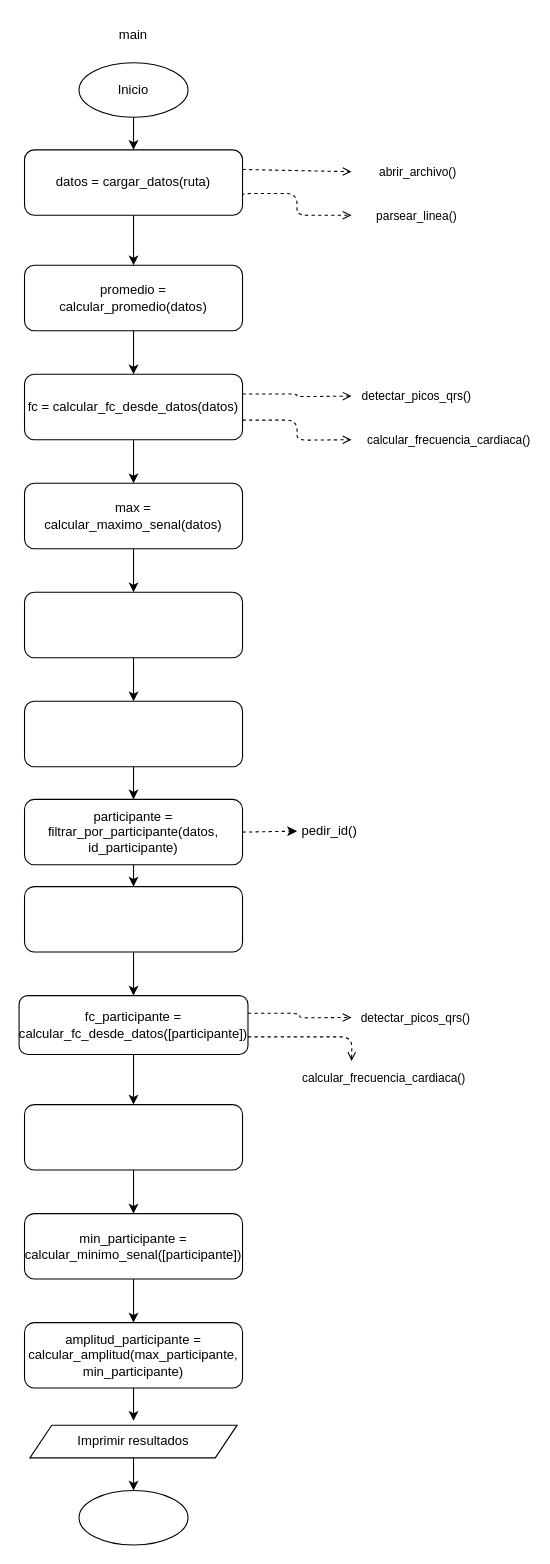
This 550x1564 diagram has some shape labels left out. Each missing label, with the box of its shape:
amplitud = calcular_amplitud(max, min): (23, 700, 243, 767)
Fin: (78, 1489, 188, 1545)
max_participante = calcular_maximo_senal([participante]): (23, 1104, 243, 1170)
min = calcular_minimo_senal(datos): (23, 591, 243, 658)
promedio_participante = calcular_promedio([participante]): (23, 886, 243, 952)
